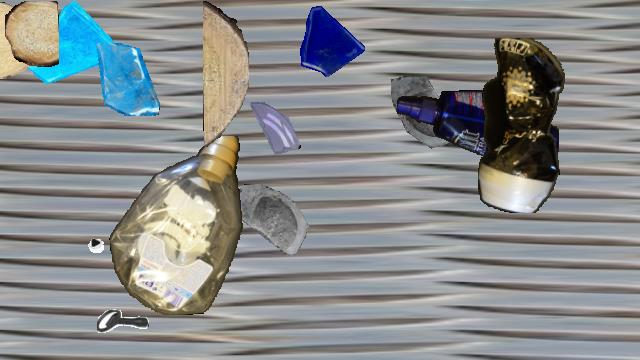glass: (28, 1, 118, 91), (389, 76, 475, 162), (237, 182, 321, 266), (291, 1, 367, 77), (90, 43, 162, 115), (245, 101, 303, 159)
metal: (51, 199, 109, 257), (97, 297, 149, 349)
plastic: (109, 136, 245, 314), (478, 38, 566, 212), (397, 90, 559, 172)
wood: (203, 1, 249, 147), (5, 1, 59, 67), (0, 1, 37, 79)
